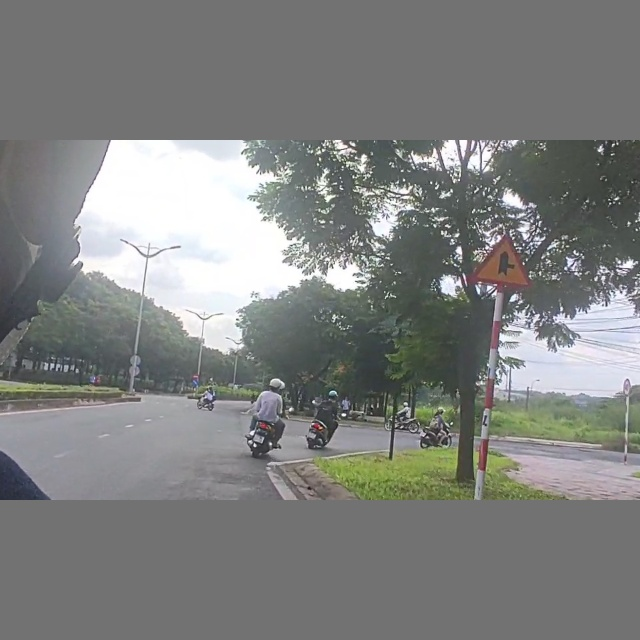W.207: (468, 229, 541, 291)
